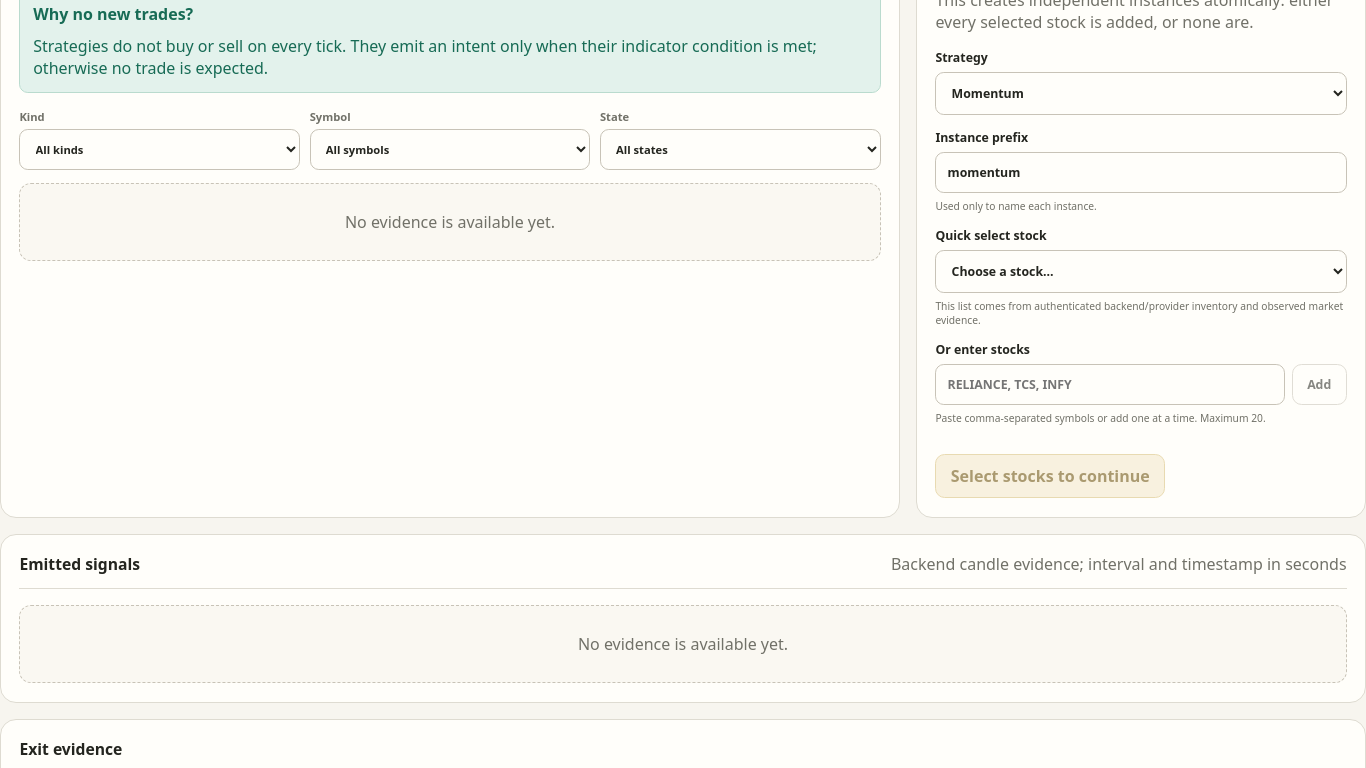
Test case: multi-stock strategy creation › shows the exact in-flight instance count and blocks duplicate submission
(page scrolled)
Type "TCS, INFY" into the field labelled "stocks" at (1110, 384), box [935, 364, 1285, 405]
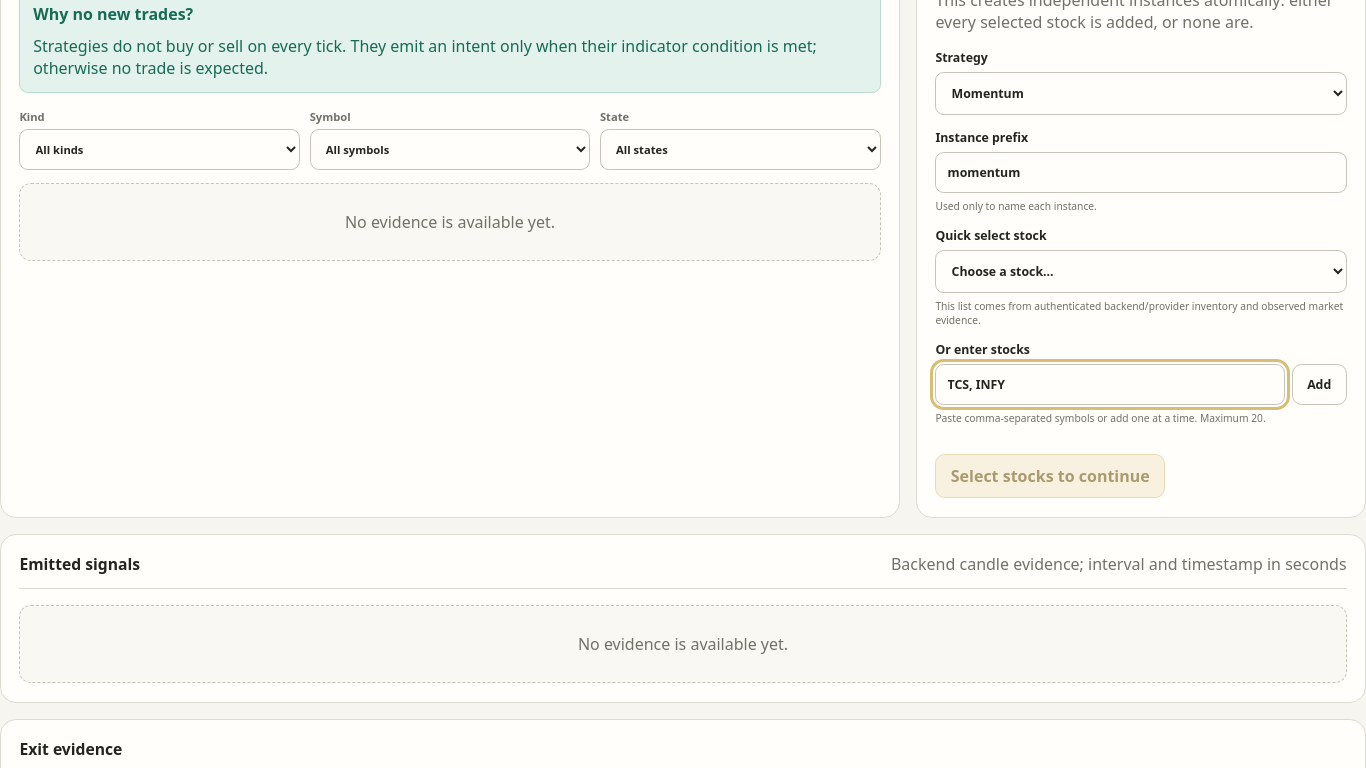
Click the button "Add" at (1319, 384), box [1292, 364, 1347, 405]
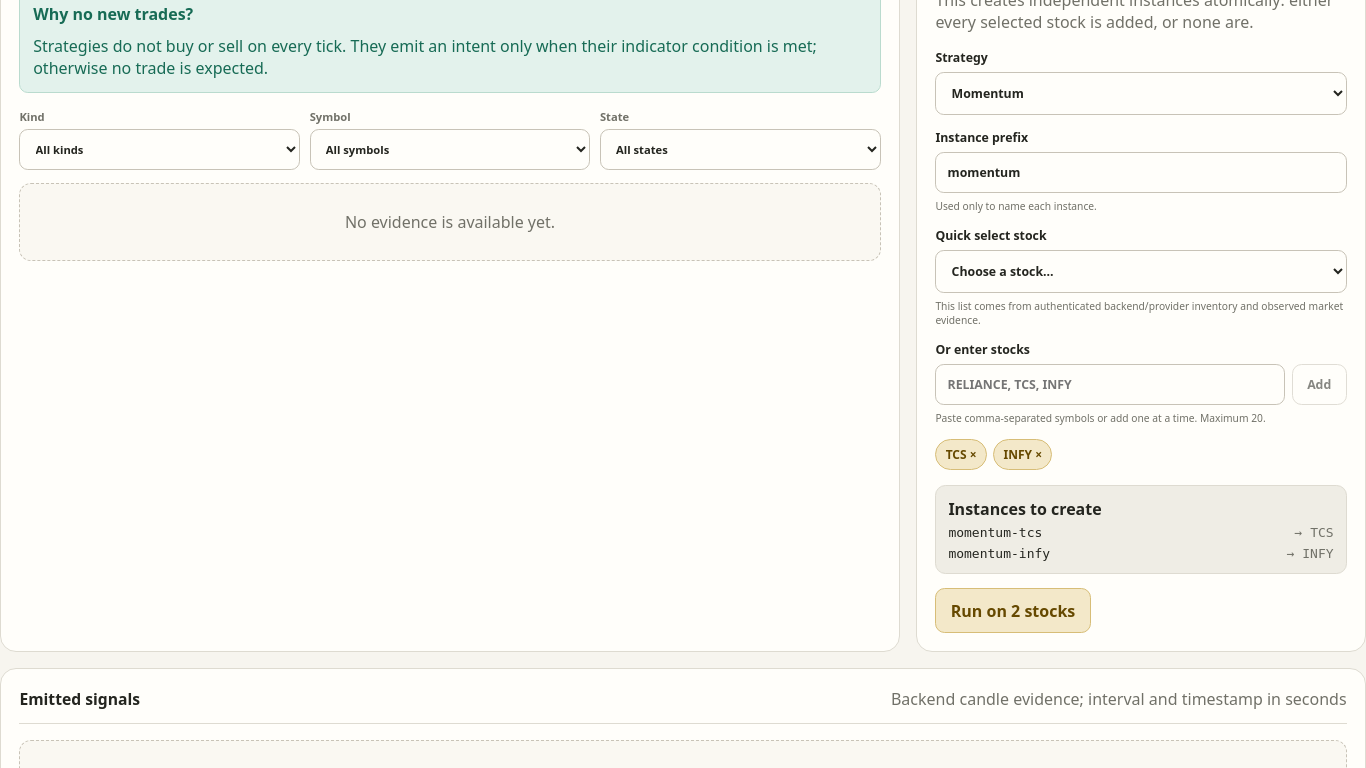
Click the button "Run on 2 stocks" at (1013, 611), box [935, 588, 1091, 633]
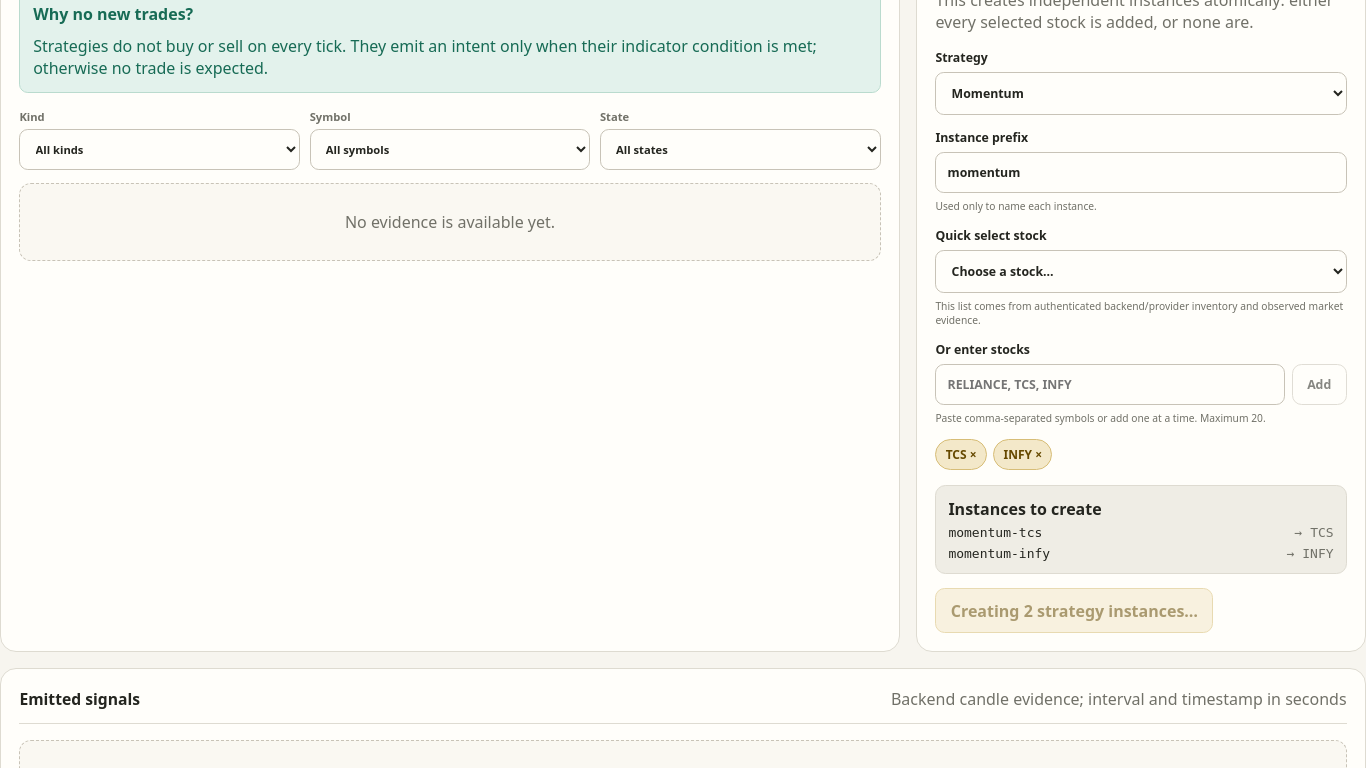
Expected: the button "Creating 2 strategy instances…" is disabled
Click the button "Creating 2 strategy instances…" at (1074, 611), box [935, 588, 1213, 633]
(page scrolled)
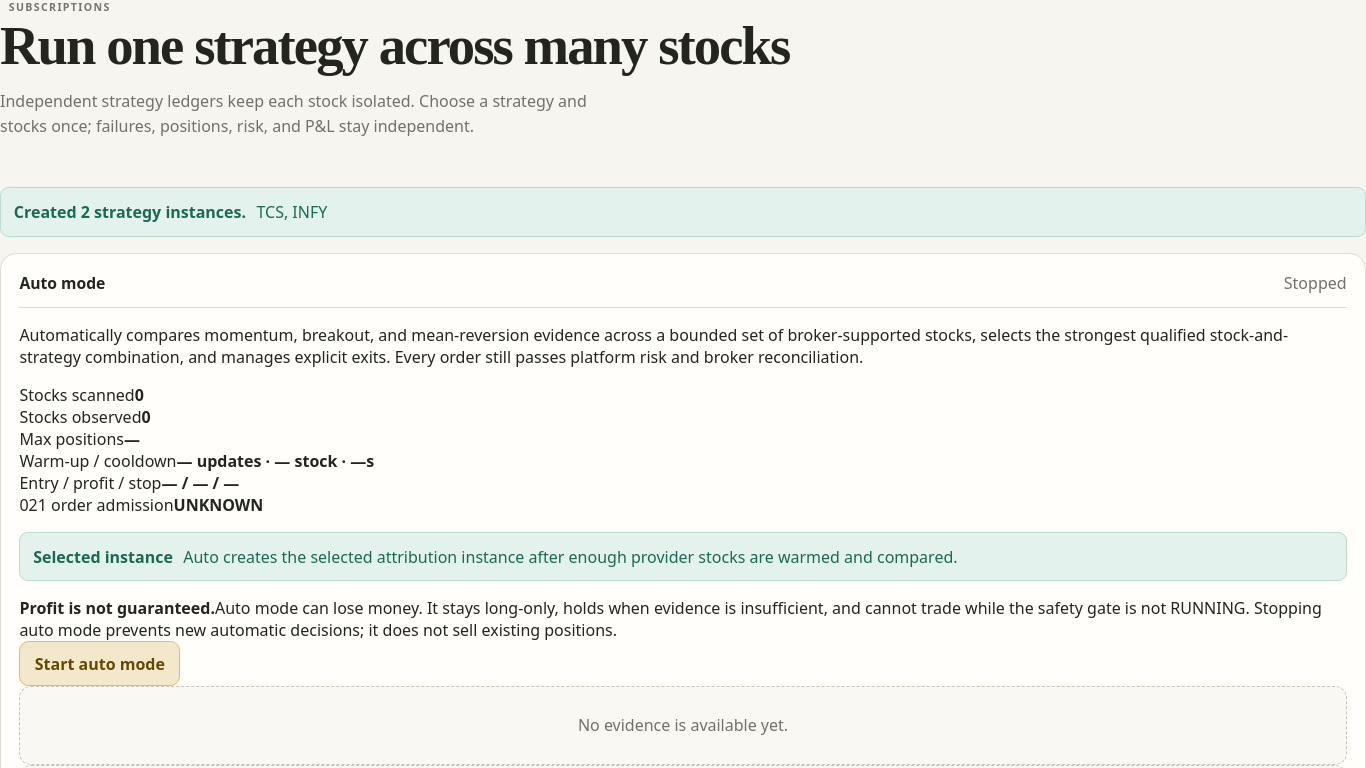
Expected: the message shows "Created 2 strategy instances", [0, 187, 1365, 237]
